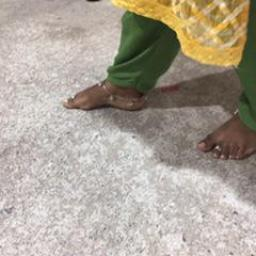Medial View -Right Foot-: (58, 60, 156, 120)
